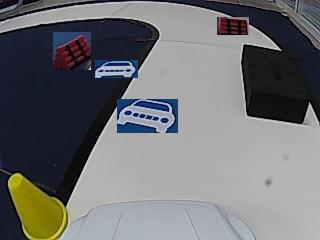block: (242, 46, 311, 124)
cone: (9, 167, 67, 239)
